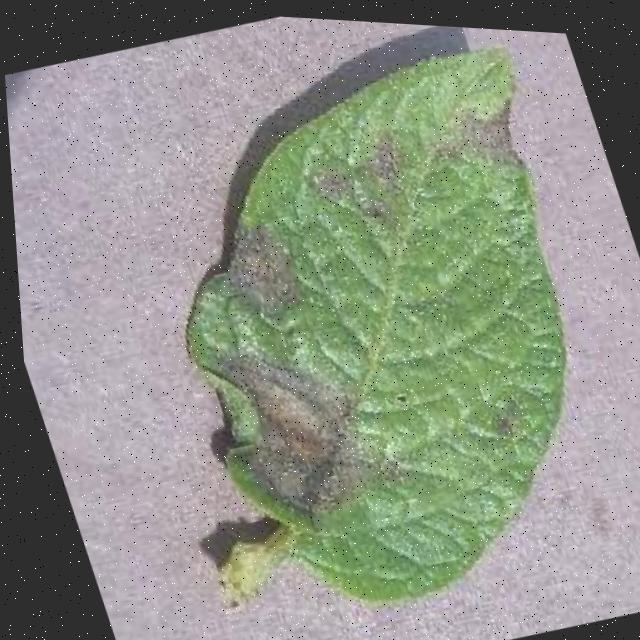Late_blight: (177, 301, 421, 560), (287, 111, 444, 236), (209, 203, 338, 348), (431, 77, 544, 186), (457, 370, 537, 443)
